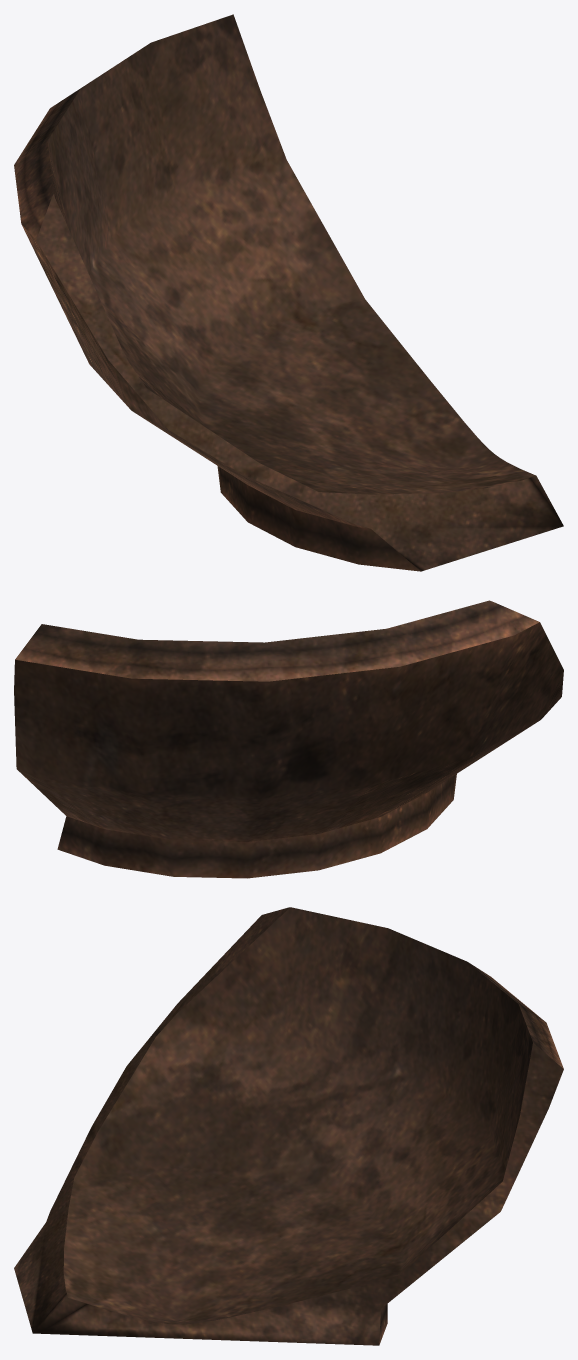
The model's file is BowlEmptyShardA.fbx.
3 renders of one model, top to bottom at view 1: azimuth 30°, elevation 25°; view 2: azimuth 150°, elevation 25°; view 3: azimuth 270°, elevation 25°, orthographic. The views are drawn at different scales.
Visible parts, largest first — view 1: Default_Layer; view 2: Default_Layer; view 3: Default_Layer.
Part boxes in pixels (left/top/right/bottom): Default_Layer: left=14, top=14, right=563, bottom=571; Default_Layer: left=14, top=600, right=563, bottom=878; Default_Layer: left=14, top=907, right=563, bottom=1345.
Size of the model in its own units: 35.01 by 24.59 by 45.
